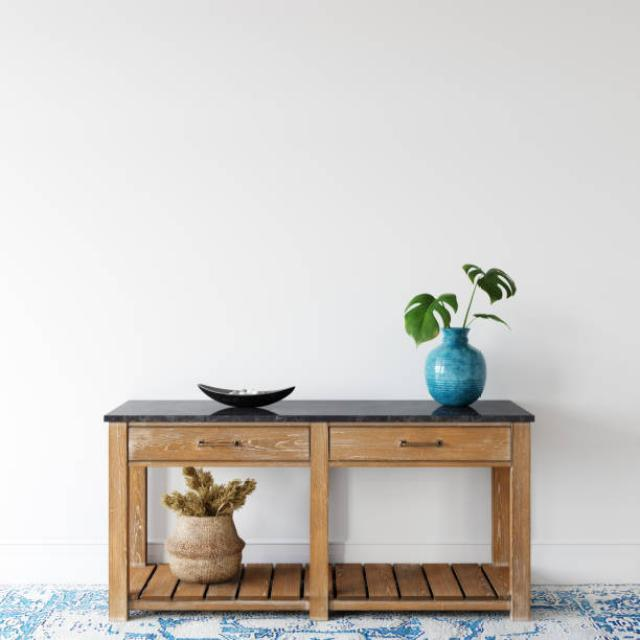table: (103, 398, 534, 622)
